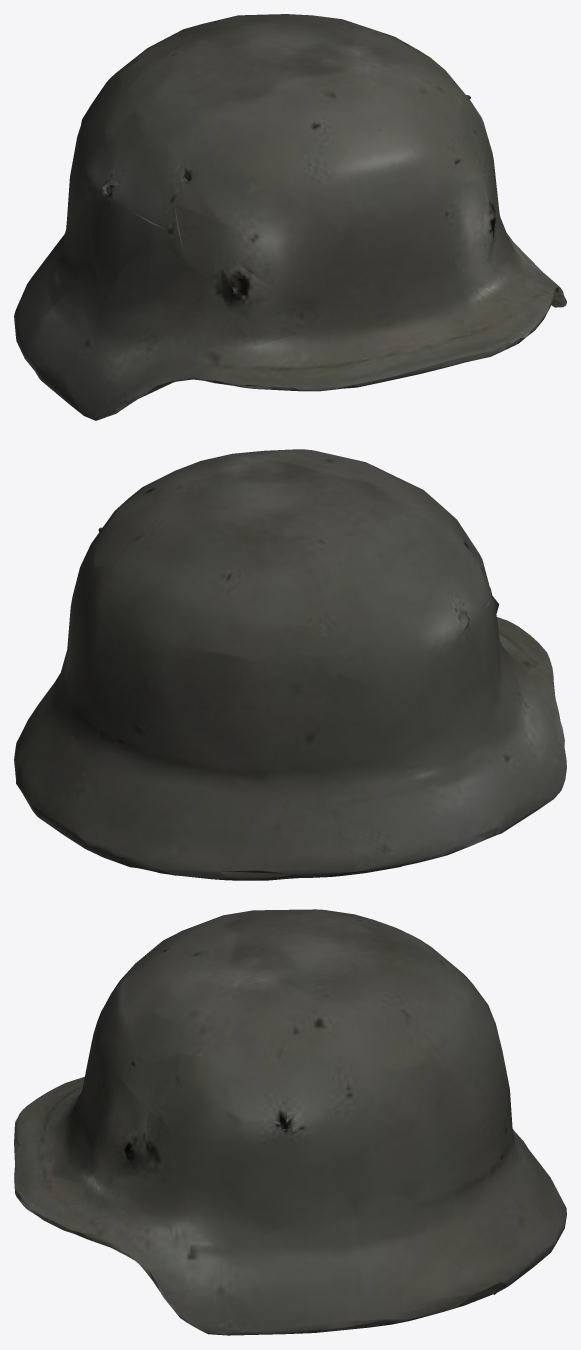
File: steel_helmet.glb
3 renders of one model, top to bottom at view 1: azimuth 30°, elevation 25°; view 2: azimuth 150°, elevation 25°; view 3: azimuth 270°, elevation 25°, orthographic.
Parts seen in each view (by area): view 1: steel_helmet; view 2: steel_helmet; view 3: steel_helmet.
Part boxes in pixels (x1,y1,x2,y2): steel_helmet: [14, 14, 566, 420]; steel_helmet: [14, 449, 566, 880]; steel_helmet: [14, 909, 566, 1335].
Size of the model in its own units: 2.4 by 1.4 by 2.48.
1 material, 1 textured.
